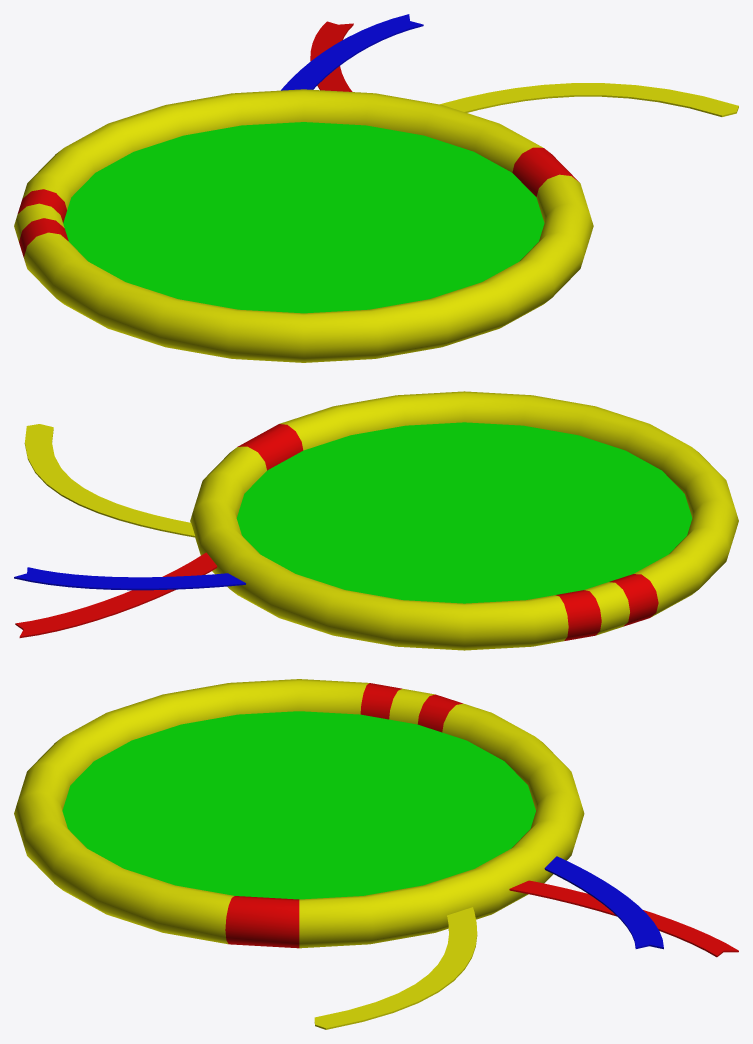
File: Lupa.fbx
3 renders of one model, top to bottom at view 1: azimuth 30°, elevation 25°; view 2: azimuth 150°, elevation 25°; view 3: azimuth 270°, elevation 25°, orthographic. The views are drawn at different scales.
Parts seen in each view (by area): view 1: Torus; view 2: Torus; view 3: Torus.
Boxes of the visible parts, <box> form: Torus: <box>14,14,738,362</box>; Torus: <box>14,391,738,650</box>; Torus: <box>14,679,738,1029</box>.
Bounding box in the file's own units: 0.5852 × 0.0361 × 0.5336.
